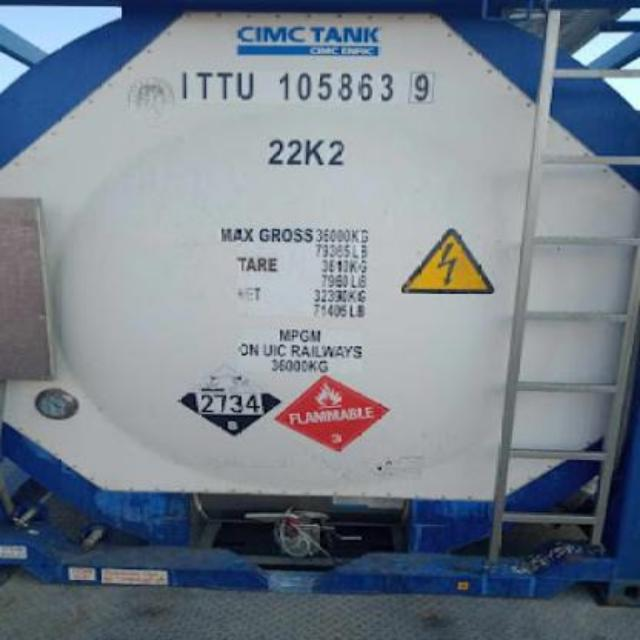0: (296, 64, 312, 104)
1: (277, 66, 293, 100)
3: (378, 68, 394, 100)
5: (318, 63, 332, 103)
6: (356, 67, 376, 103)
8: (336, 66, 354, 104)
9: (412, 72, 434, 105)
I: (173, 56, 189, 100)
T: (194, 64, 214, 106), (217, 64, 233, 106)
U: (234, 66, 258, 106)
